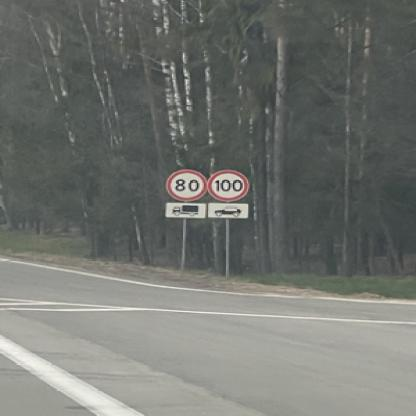Speed Limit 100: (208, 169, 250, 201)
Speed Limit 80: (165, 168, 206, 201)
